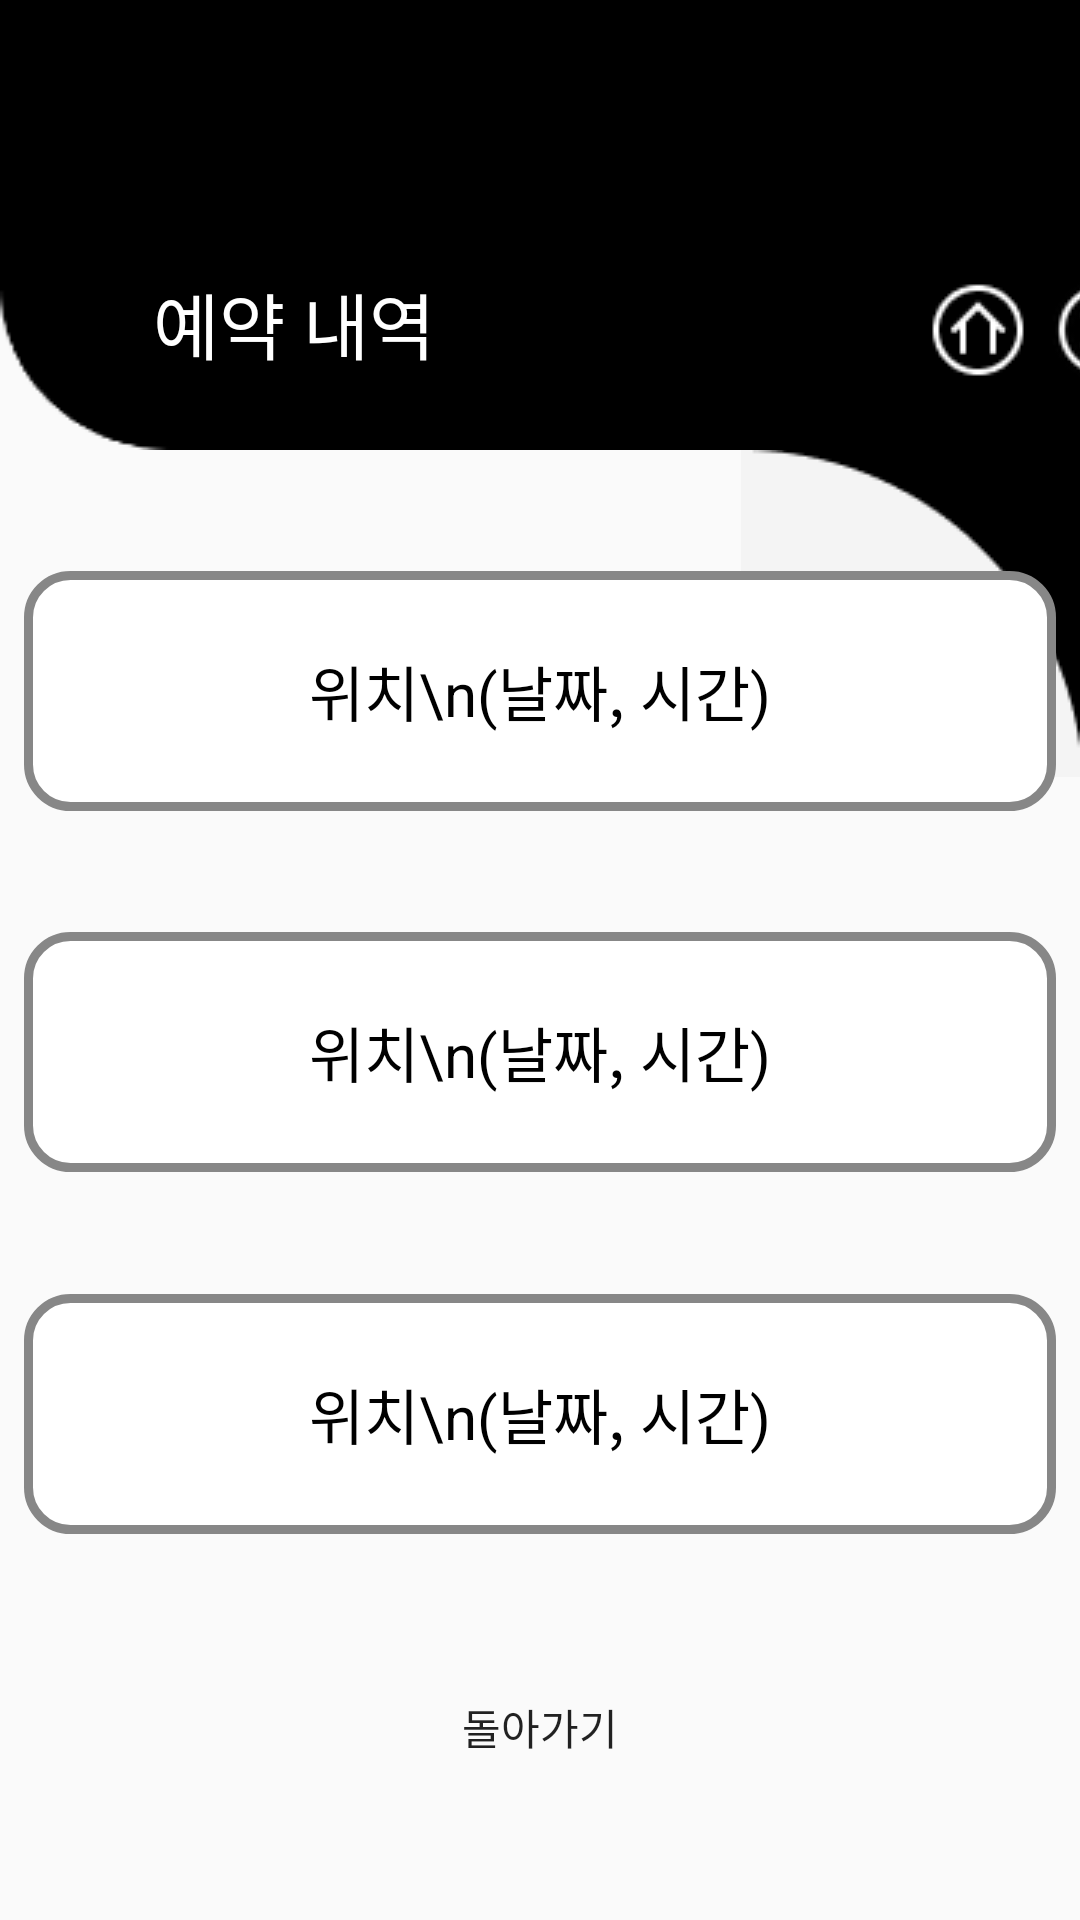

Where to tap for icons on this 1080w x 1920h app screen, as (x=x, y=y):
home: (x=978, y=330)
